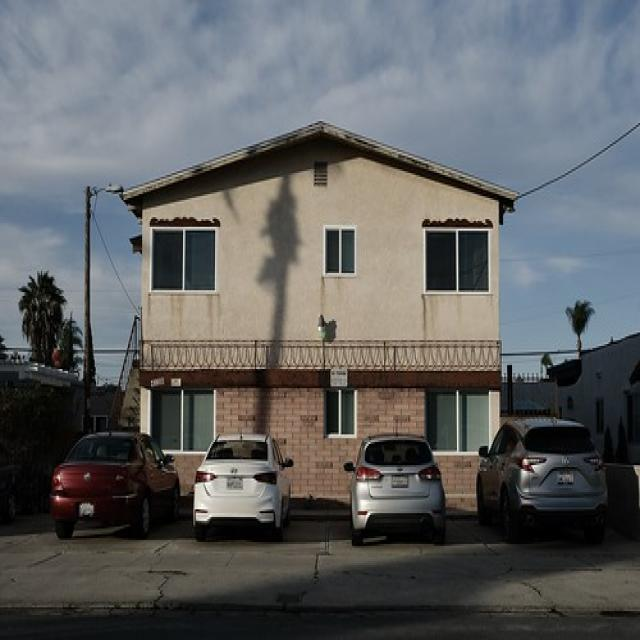Normal_building: (116, 117, 522, 519)
